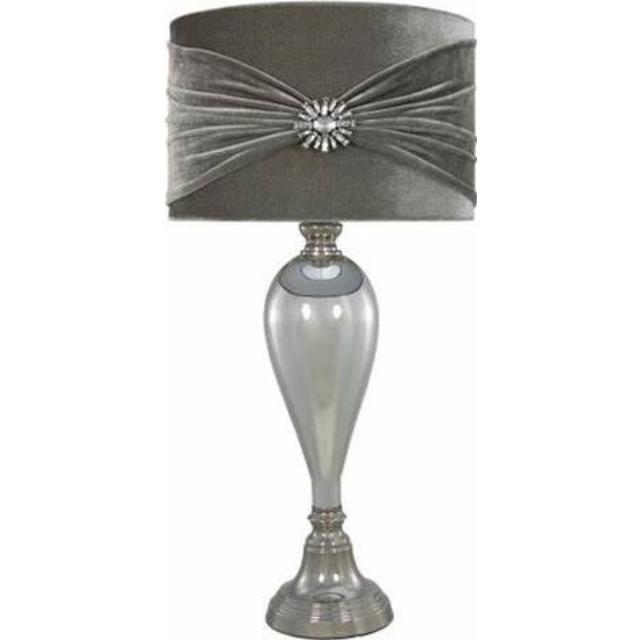lamp: (166, 1, 477, 640)
